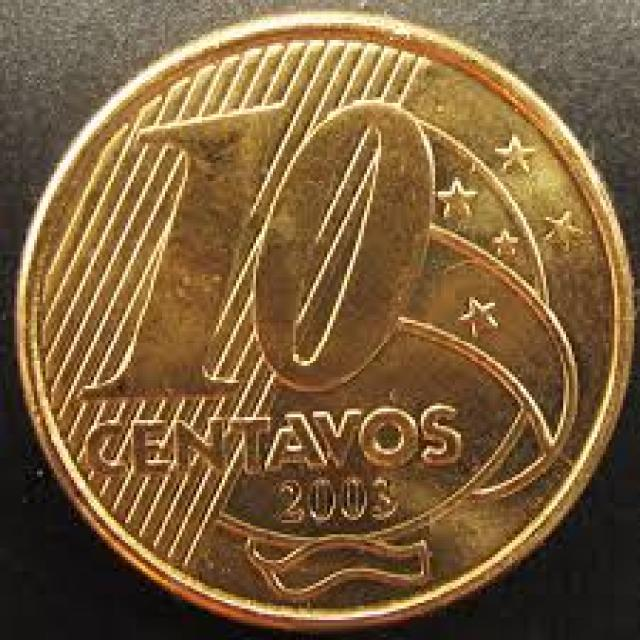10 cent: (56, 19, 605, 613)
